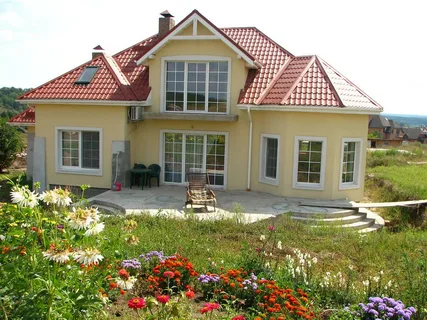private_hause: (35, 33, 377, 206)
